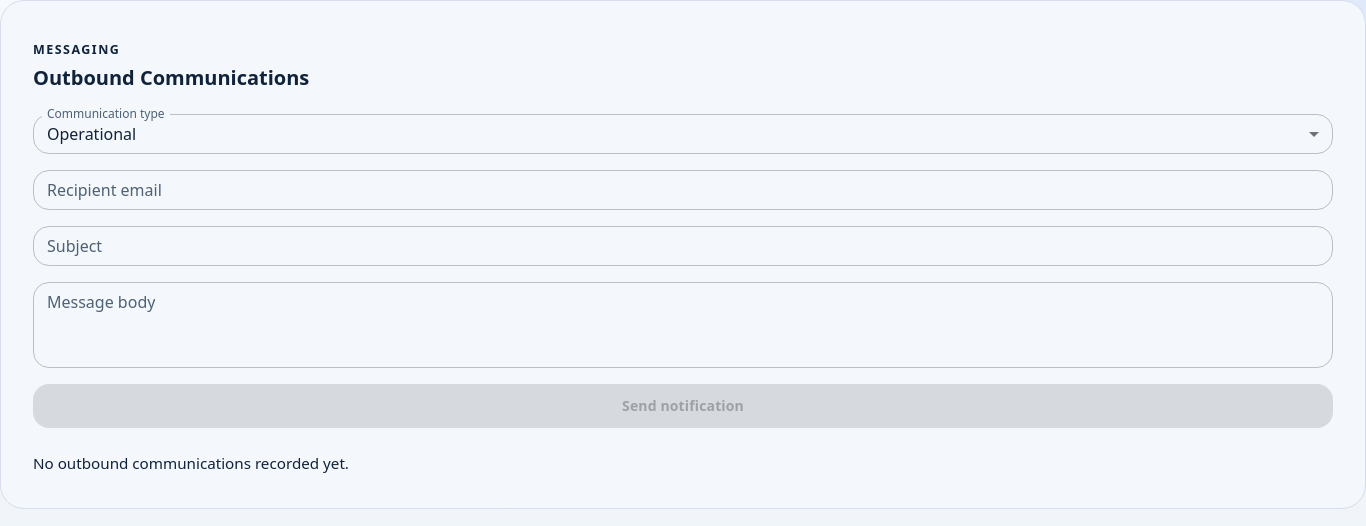
Test case: ClaimCommunicationsPanel › enables send button when recipient, subject, and body are filled
The width and height of the screenshot is (1366, 526).
Type "test@example.com" into the field labelled "Recipient email" at {"x": 683, "y": 190}, box [33,170,1333,210]
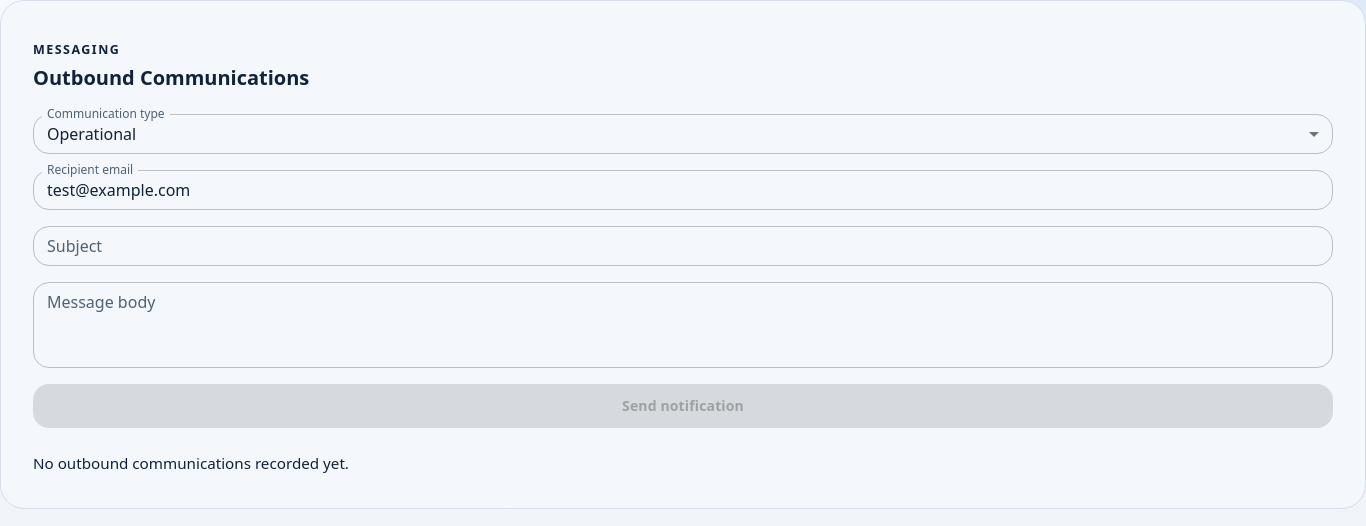
Type "Status update" into the field labelled "Subject" at {"x": 683, "y": 246}, box [33,226,1333,266]
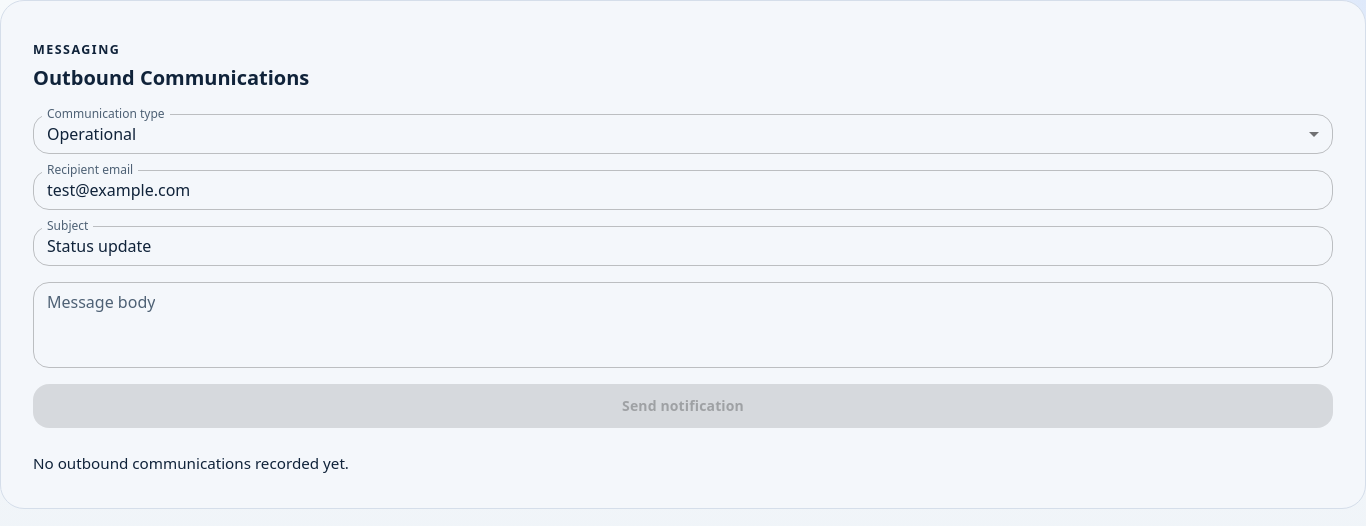
Type "Your claim is being reviewed." into the text box labelled "Message body" at {"x": 683, "y": 325}, box [47,291,1319,360]
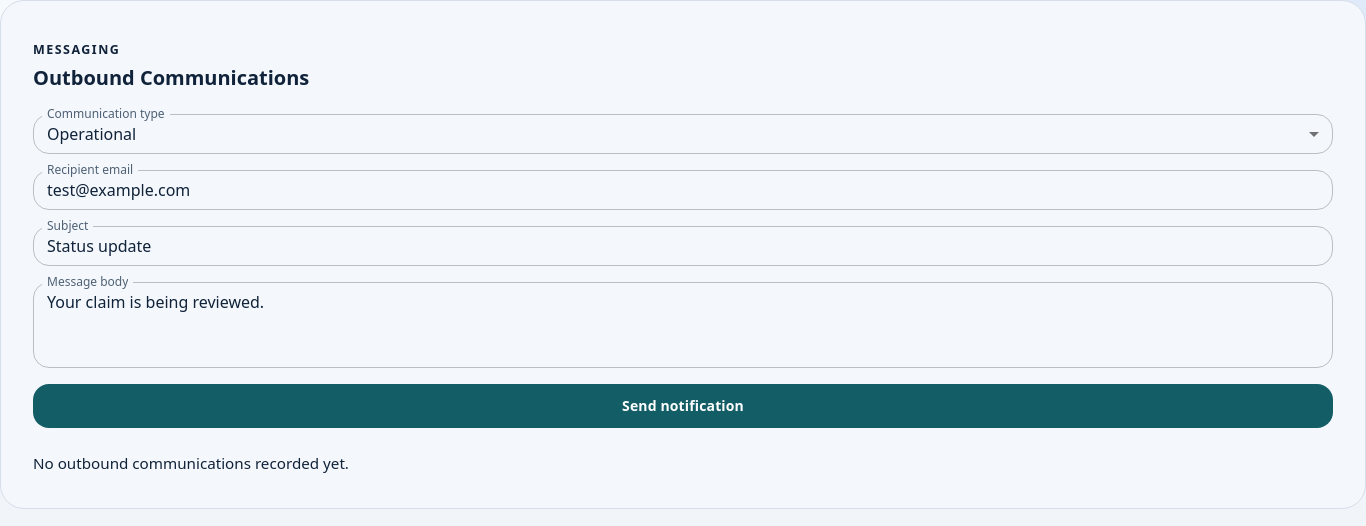
Expected: the button "Send notification" is enabled, [33,384,1333,428]
